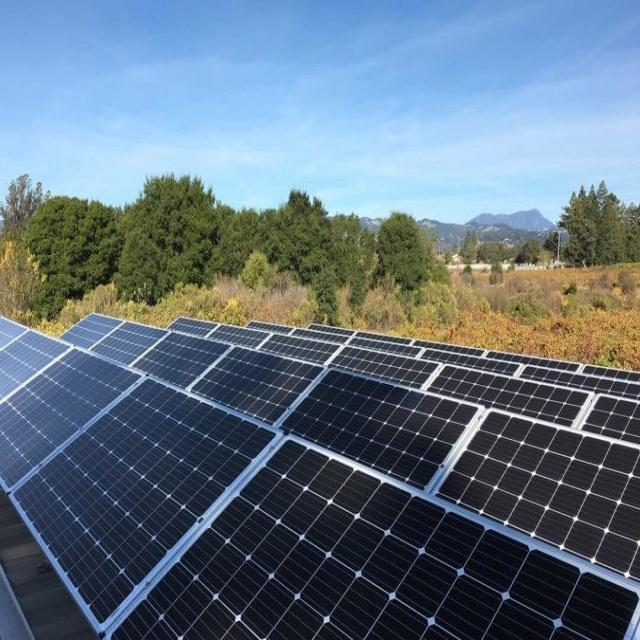Clean: (0, 309, 640, 640)
